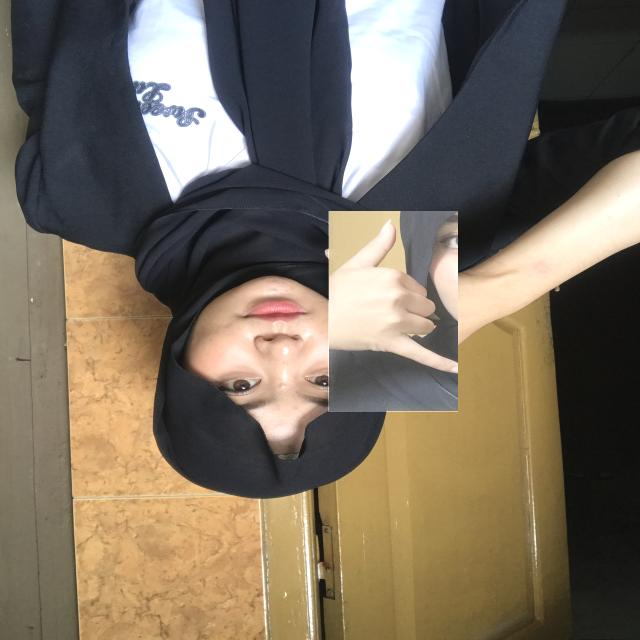telpon: (328, 211, 458, 412)
